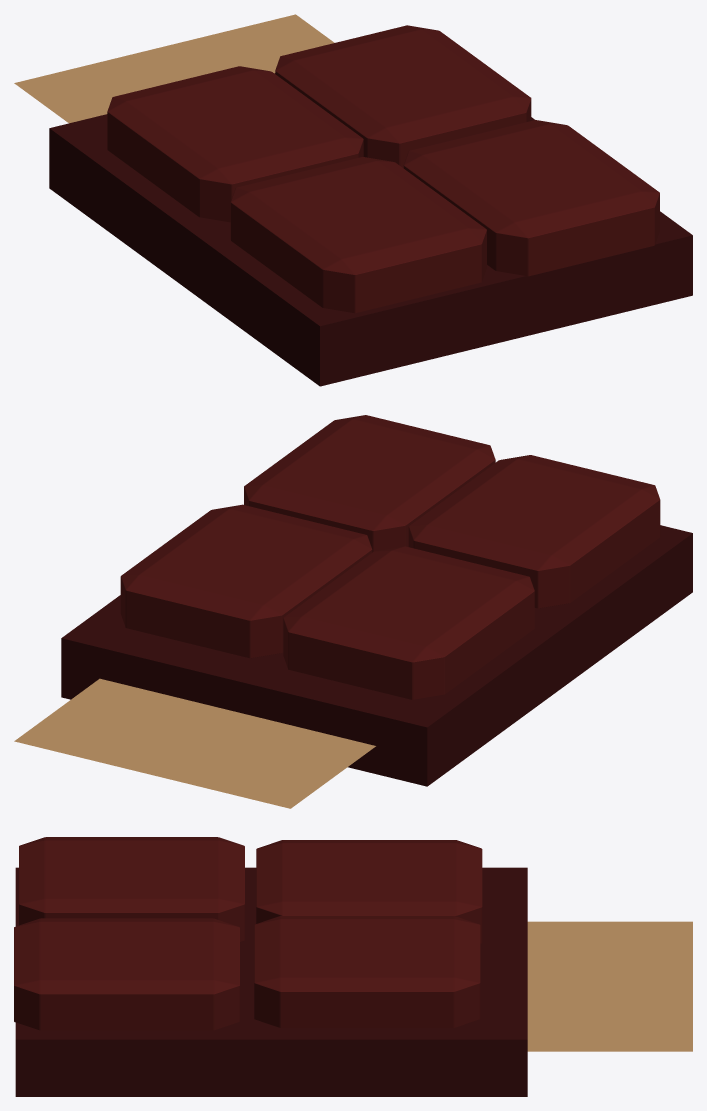
Rendered from golden_ticket.fbx.
3 renders of one model, top to bottom at view 1: azimuth 30°, elevation 25°; view 2: azimuth 150°, elevation 25°; view 3: azimuth 270°, elevation 25°, orthographic. The views are drawn at different scales.
Visible parts, largest first — view 1: Cube.001, Cube.002, Cube.003, Cube.004, Cube.005, Plane; view 2: Cube.001, Cube.004, Cube.005, Cube.002, Plane, Cube.003; view 3: Cube.001, Cube.003, Cube.005, Plane, Cube.002, Cube.004.
Part boxes in pixels (x1,y1,x2,y2): Cube.001: (49, 73, 692, 386); Cube.002: (230, 157, 486, 313); Cube.003: (403, 120, 659, 276); Cube.004: (107, 66, 363, 222); Cube.005: (275, 25, 531, 168); Plane: (14, 14, 334, 123); Cube.001: (61, 525, 692, 786); Cube.004: (283, 546, 534, 699); Cube.005: (120, 504, 372, 658); Cube.002: (408, 455, 660, 608); Plane: (14, 678, 375, 808); Cube.003: (244, 415, 495, 552); Cube.001: (15, 867, 527, 1096); Cube.003: (14, 918, 239, 1030); Cube.005: (254, 916, 480, 1027); Plane: (527, 921, 692, 1051); Cube.002: (19, 837, 244, 941); Cube.004: (256, 840, 482, 943).
Size of the model in its own units: 327 by 89.8 by 545.
